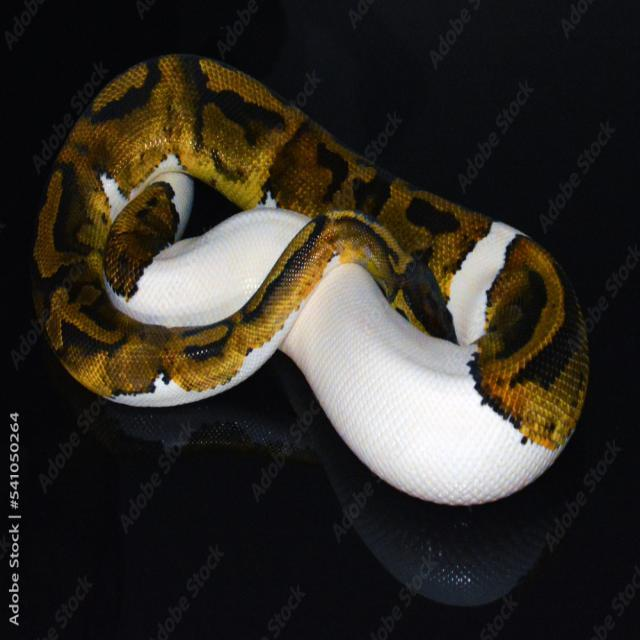Snake: (36, 31, 614, 519)
